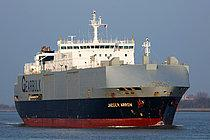Ship: (12, 8, 195, 132)
